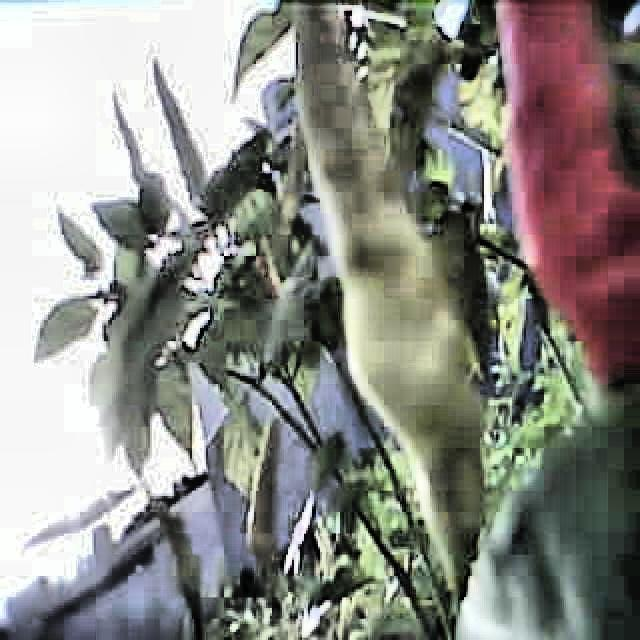Cabai: (498, 0, 640, 341)
